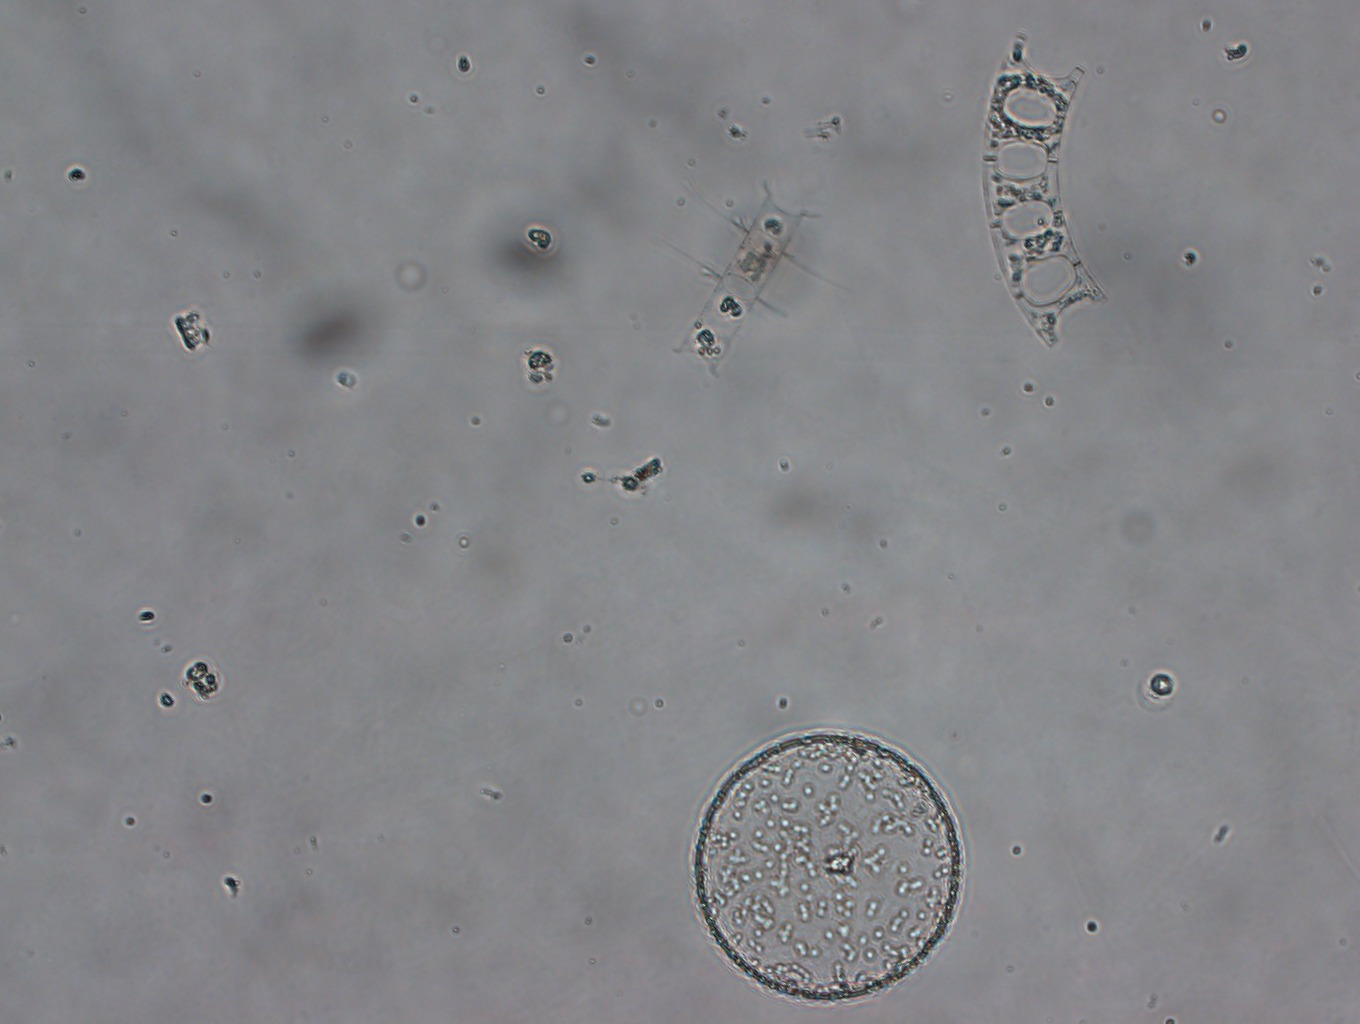chaetoceros: (656, 174, 855, 376)
coscinodiscus: (690, 730, 964, 1002)
eucampia: (979, 33, 1106, 346)
